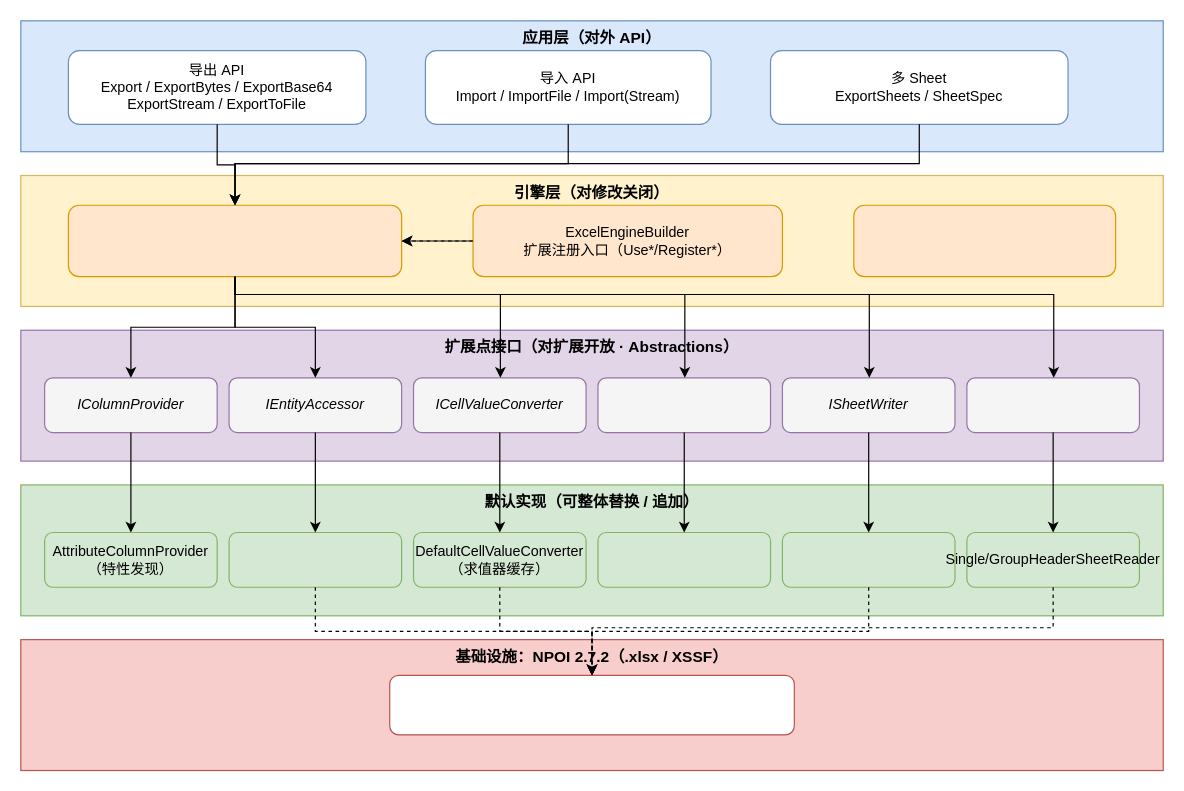
Some shapes in this 1184 by 791 pixel diagram are drawn without their labels. The centre of each missing label's shape, as x and y in pixels:
DefaultFormulaResolver（{Field}→地址）: point (684, 559)
ExcelEngine 门面 固定流水线：列解析→策略选择→生成/解析: point (234, 240)
ExcelExportResult Workbook / Bytes / Base64 / Stream: point (984, 240)
IFormulaResolver: point (684, 405)
ISheetReader: point (1052, 405)
ReflectionEntityAccessor（表达式树编译）: point (315, 559)
Single/GroupHeaderSheetWriter: point (868, 559)
XSSFWorkbook / XSSFSheet CT_SheetProtection · FormulaEvaluator · 数据验证: point (591, 704)
